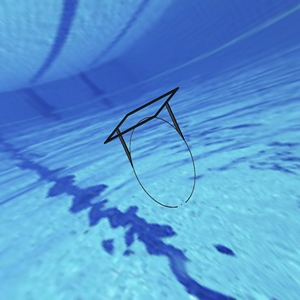circle: (104, 85, 200, 209)
